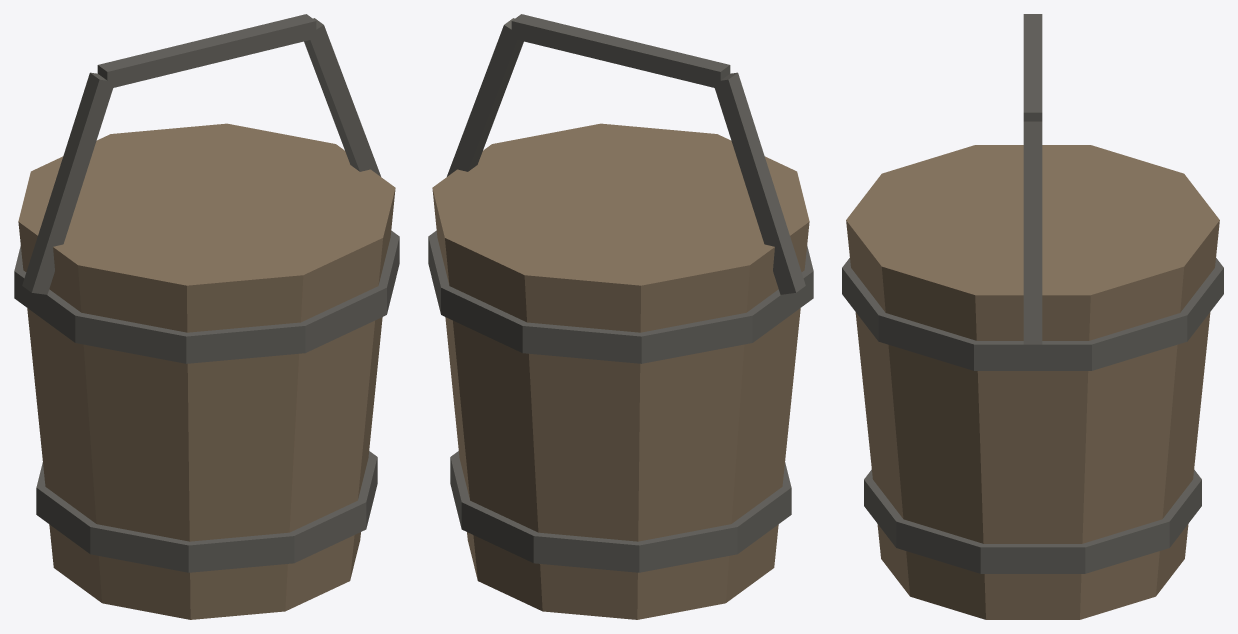
File: bucket.glb
3 views of the same model, side by side, from view 1: azimuth 30°, elevation 25°; view 2: azimuth 150°, elevation 25°; view 3: azimuth 270°, elevation 25° (orthographic). The views are drawn at different scales.
Visible parts, largest first — view 1: Bucket; view 2: Bucket; view 3: Bucket.
Boxes of the visible parts, <box> form: Bucket: <box>14,14,399,619</box>; Bucket: <box>428,14,813,619</box>; Bucket: <box>842,14,1223,619</box>.
Size of the model in its own units: 0.345 by 0.468 by 0.3269.
